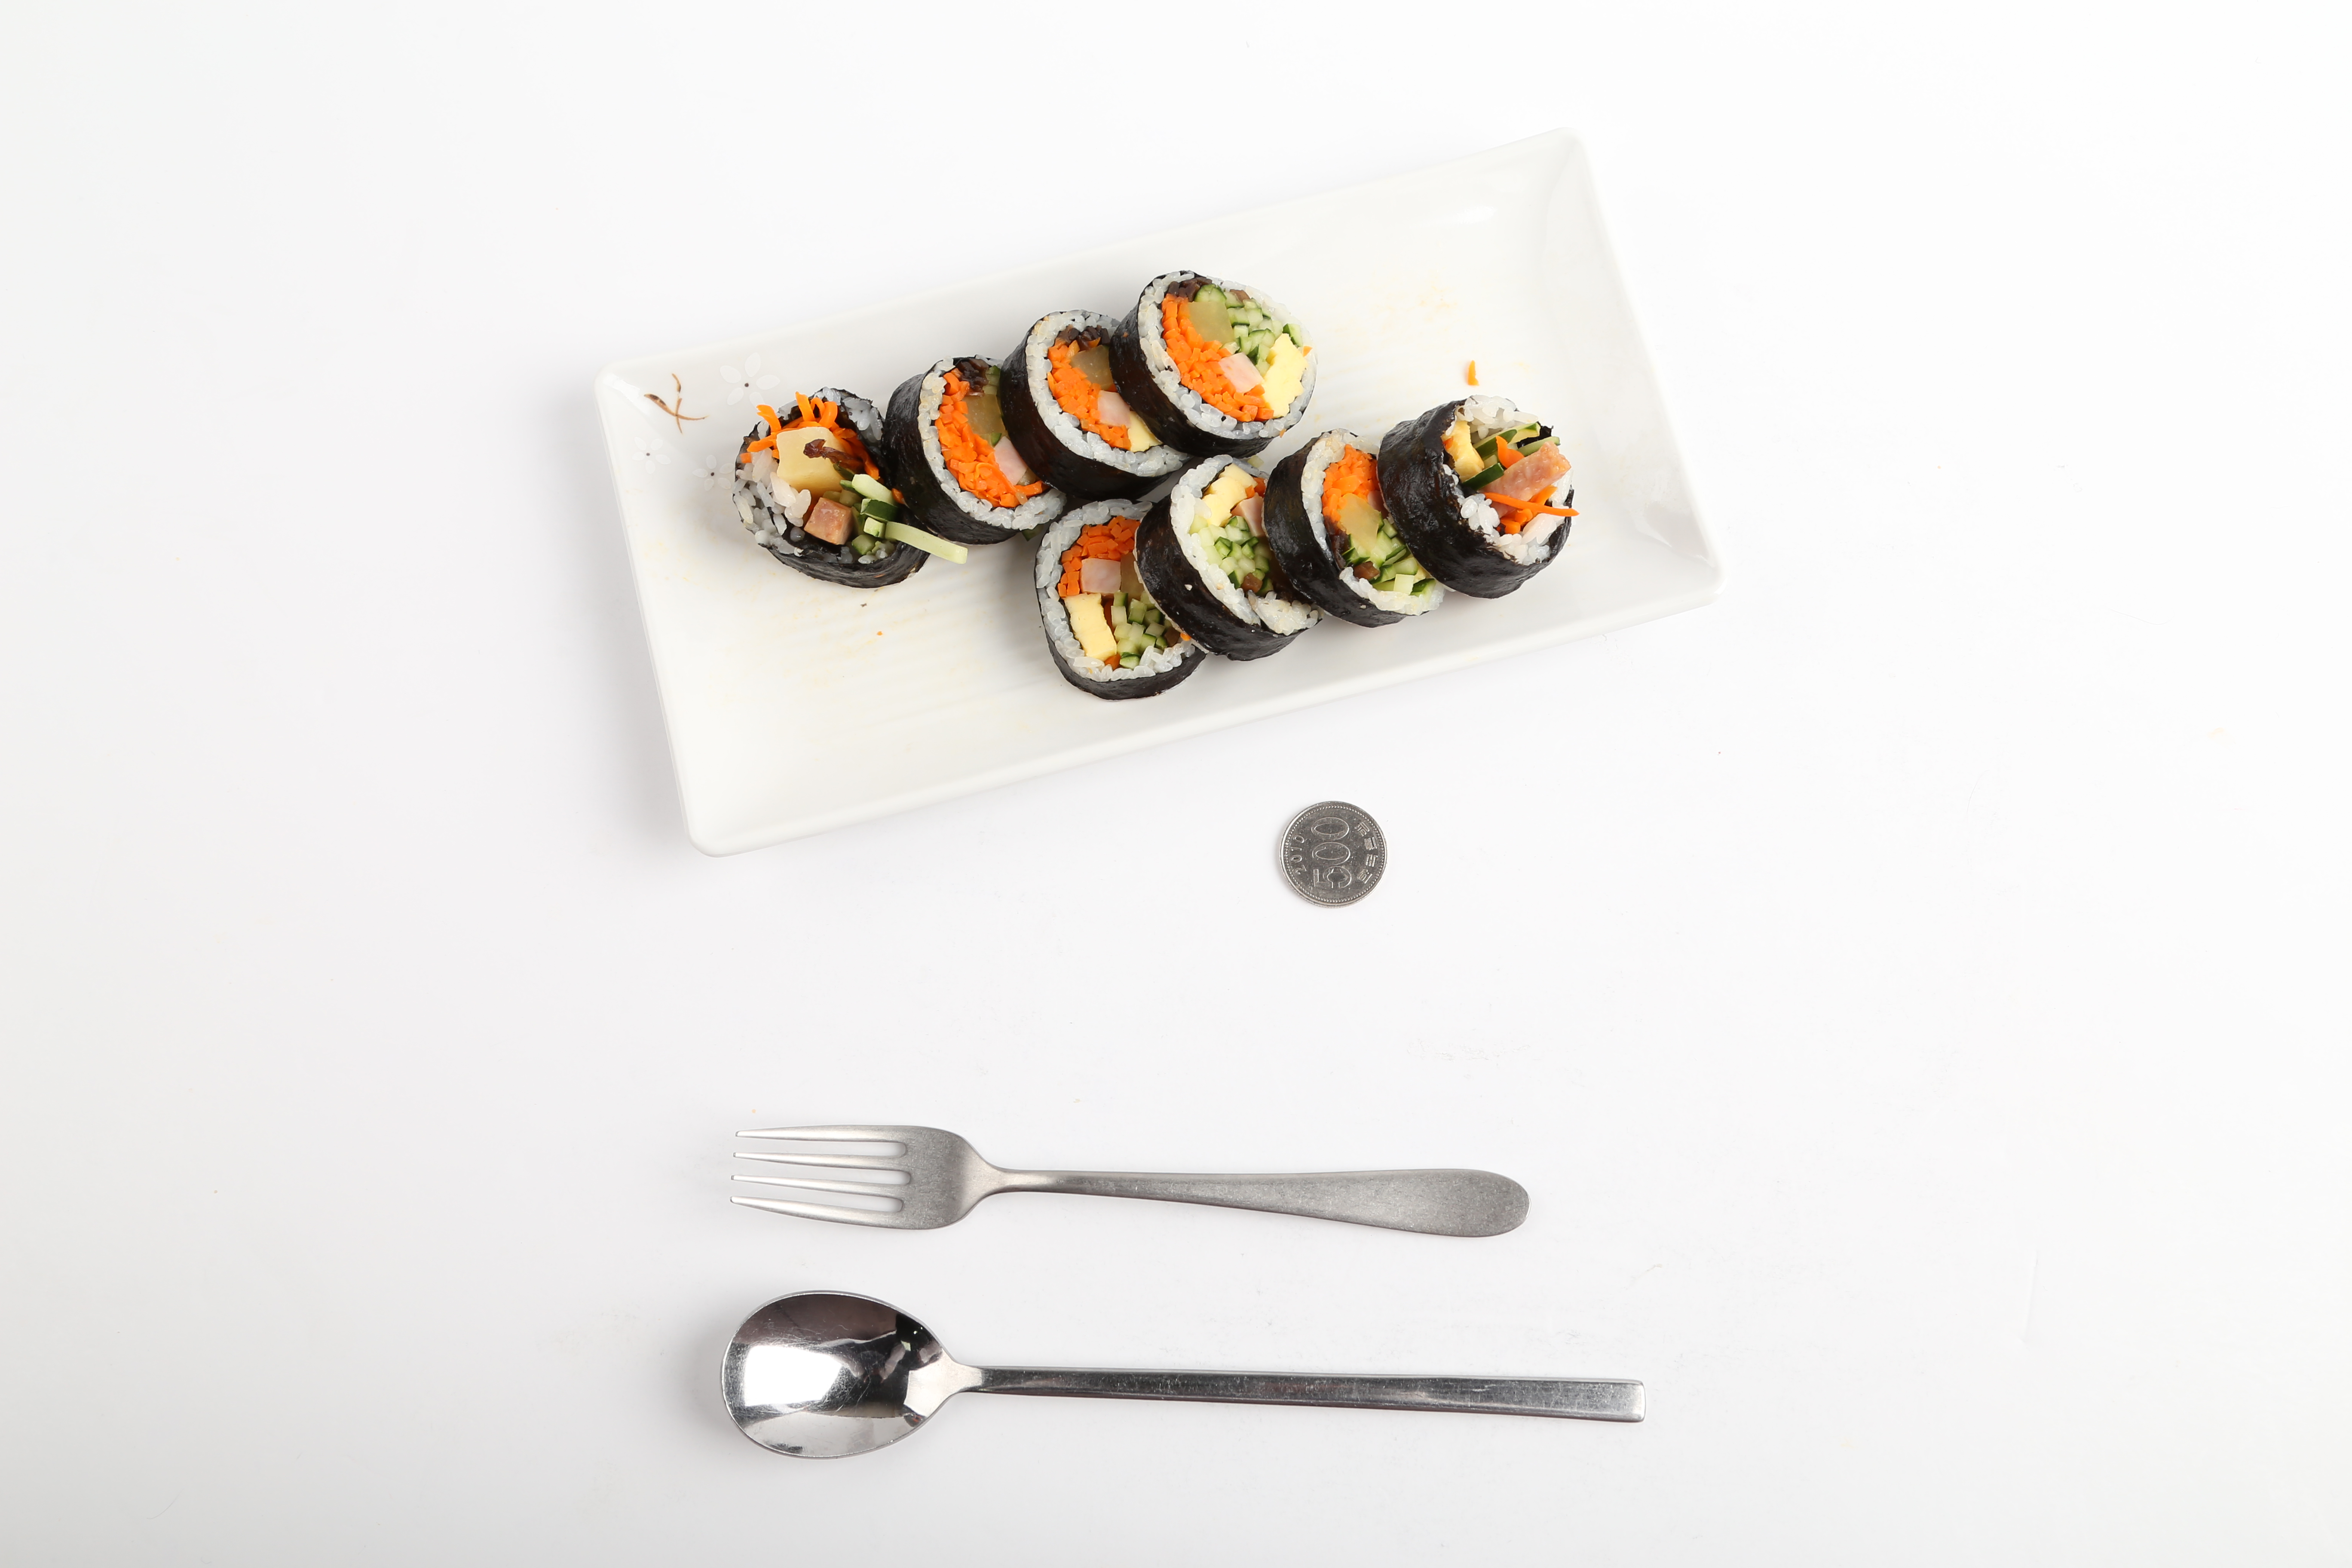dish: (598, 136, 1729, 850)
ref_coin: (1269, 794, 1391, 910)
ref_fork: (730, 1115, 1053, 1235)
ref_spoon: (717, 1288, 1031, 1463)
김밥: (730, 268, 1578, 705)
